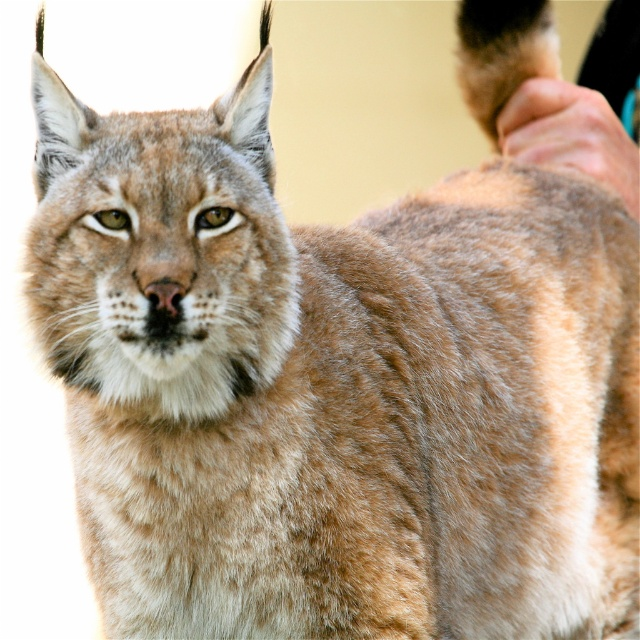Lynx: (29, 0, 640, 640)
